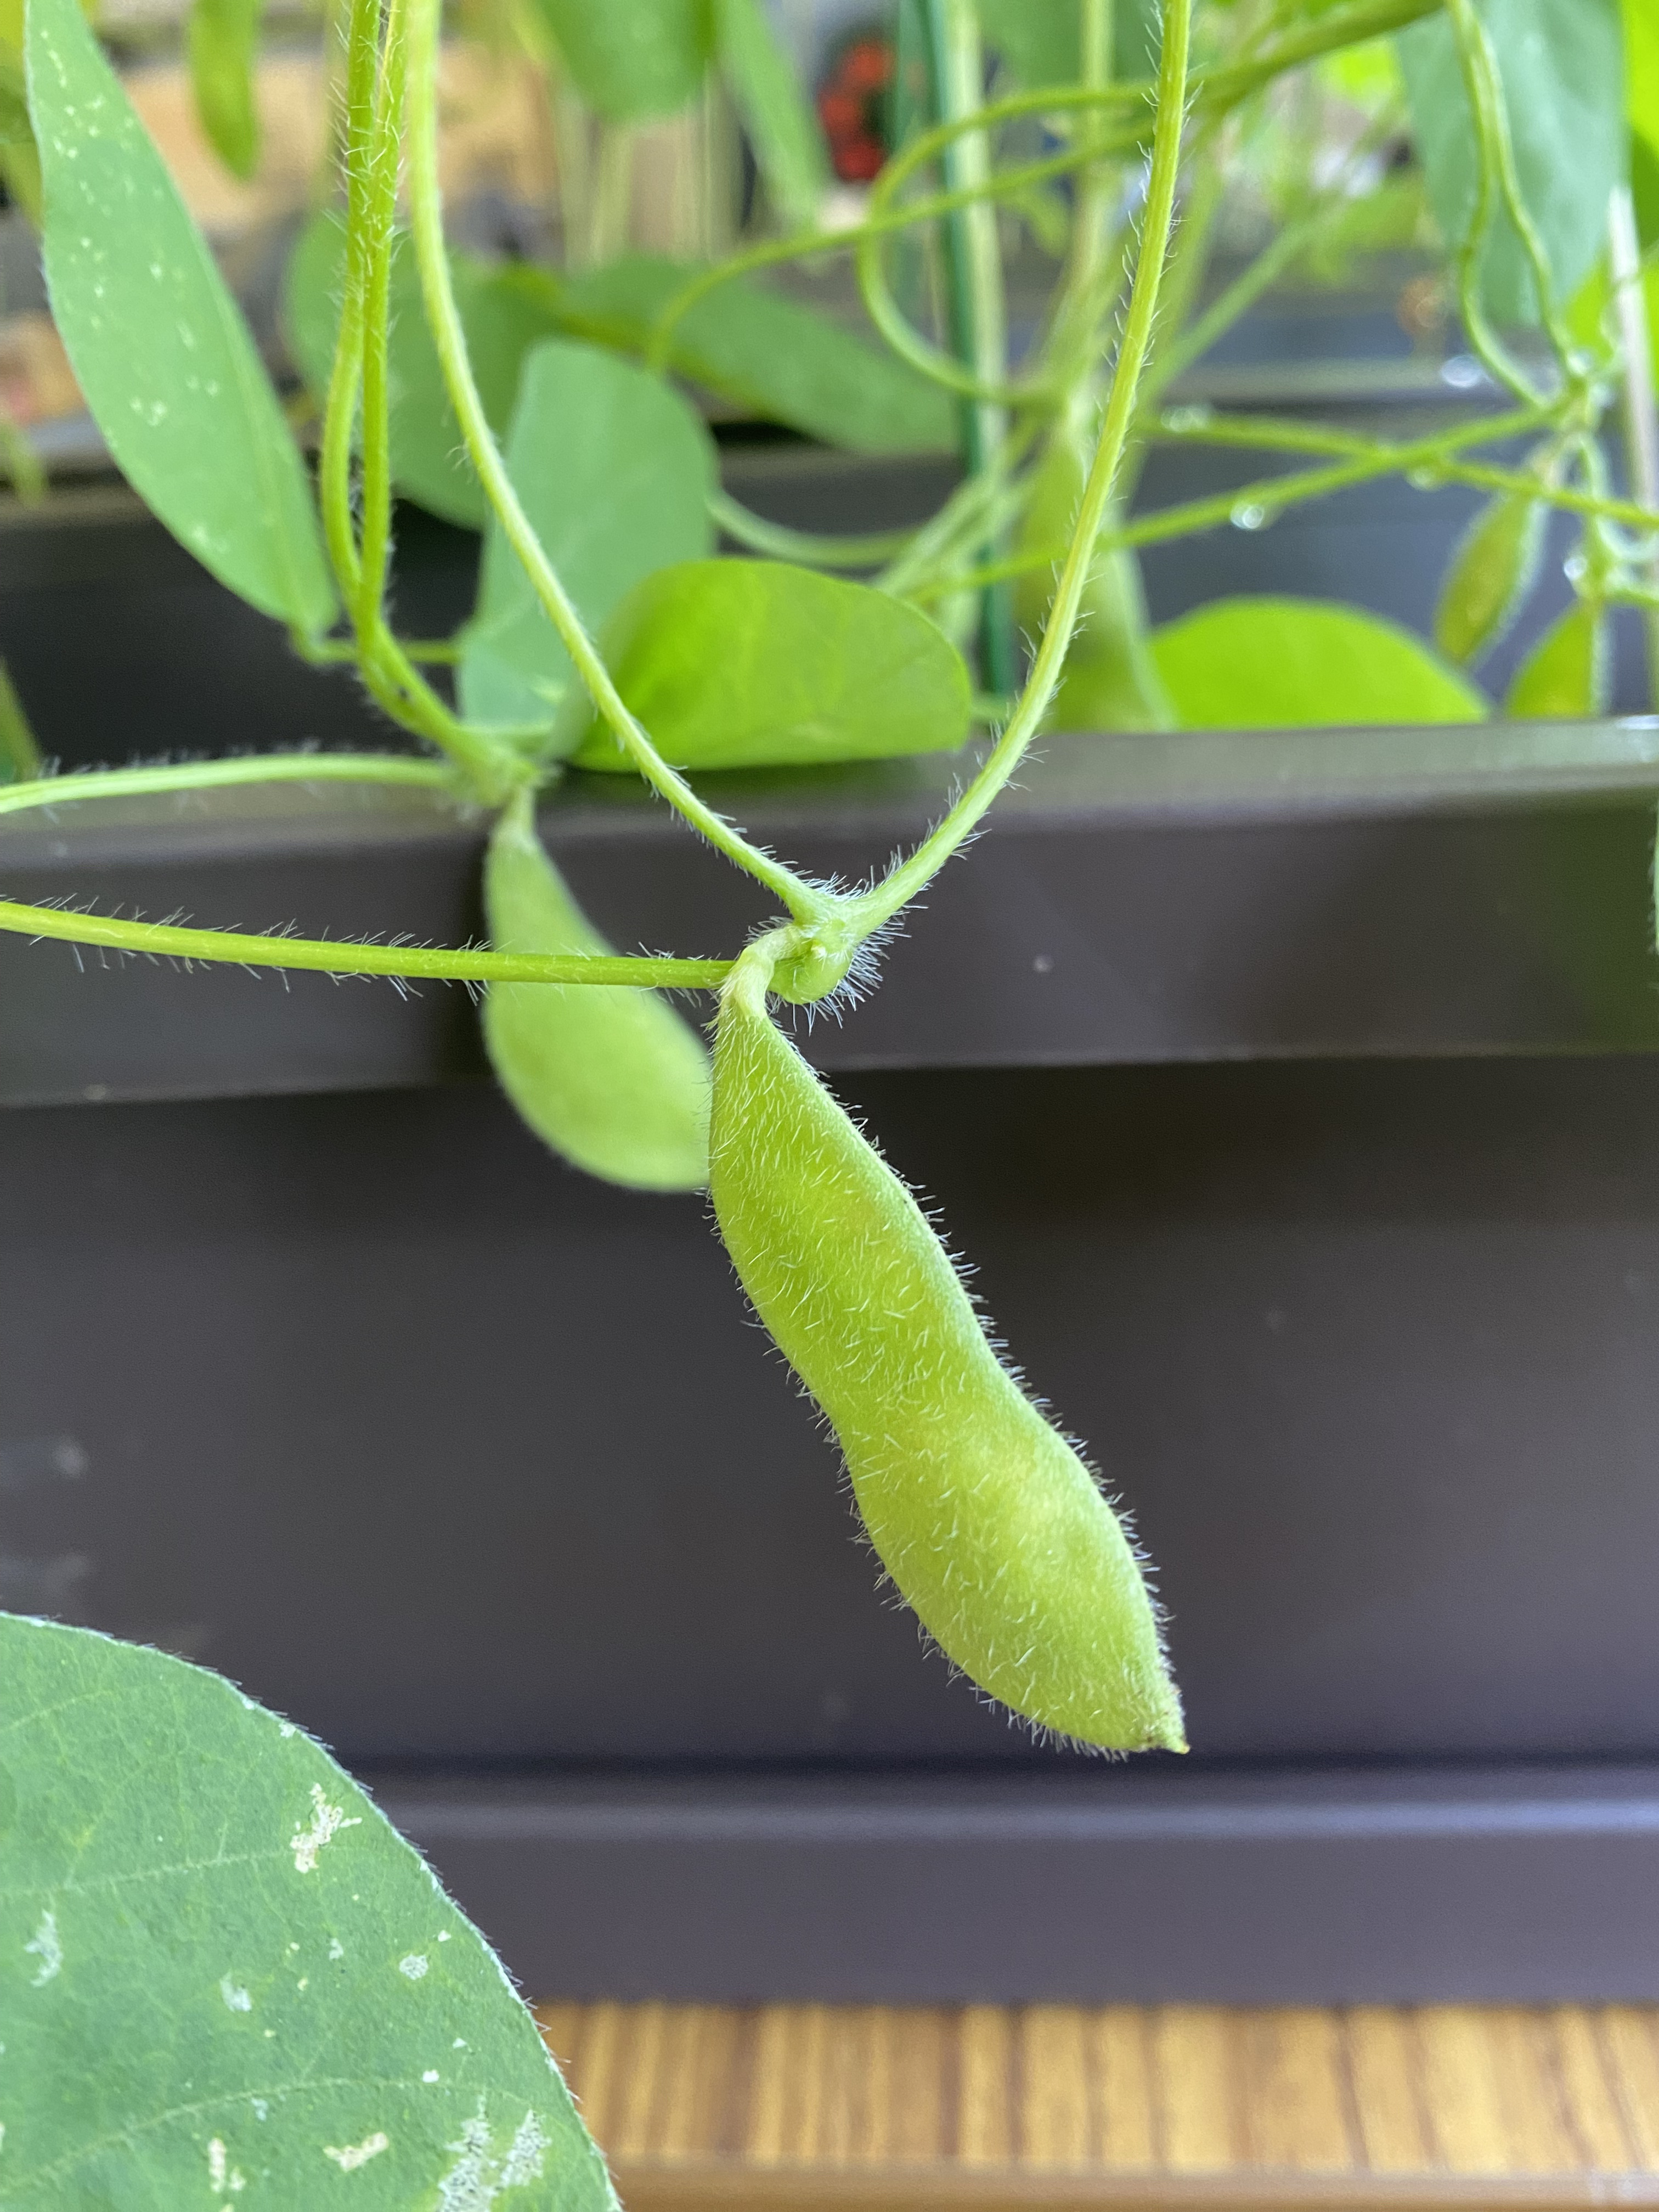healthy: (474, 340, 690, 728), (589, 557, 974, 763)
leaf scorch(50%): (0, 1608, 619, 2210), (0, 2, 350, 657)
soybean: (699, 984, 1192, 1764), (462, 822, 746, 1205)
